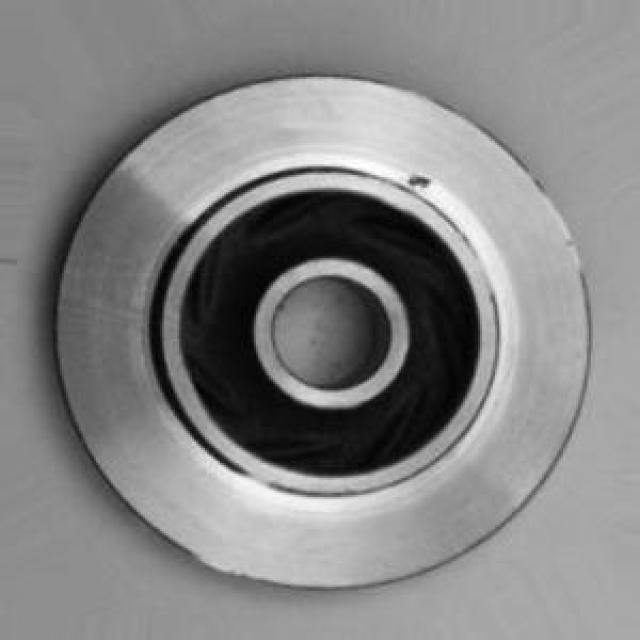Defect: (403, 166, 458, 206)
